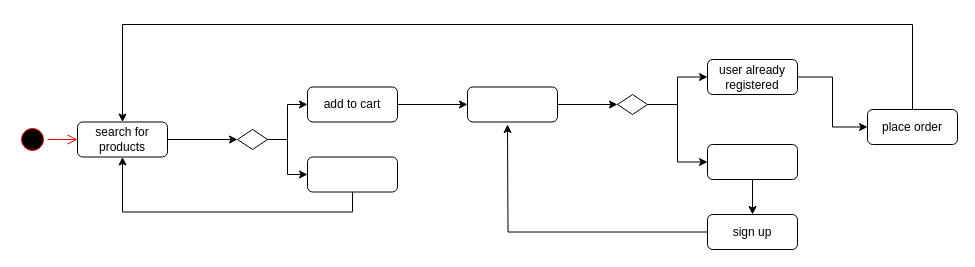
Some shapes in this 975 by 267 pixel diagram are drawn without their labels. The centre of each missing label's shape, as x and y in pixels:
look for more products: point 352,174
new user: point 752,162
proceed to check out: point 512,104
